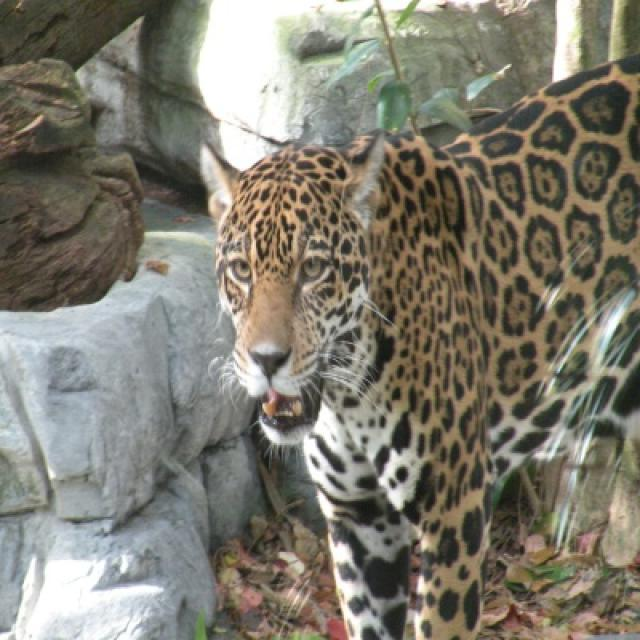Jaguar: (214, 54, 638, 638)
